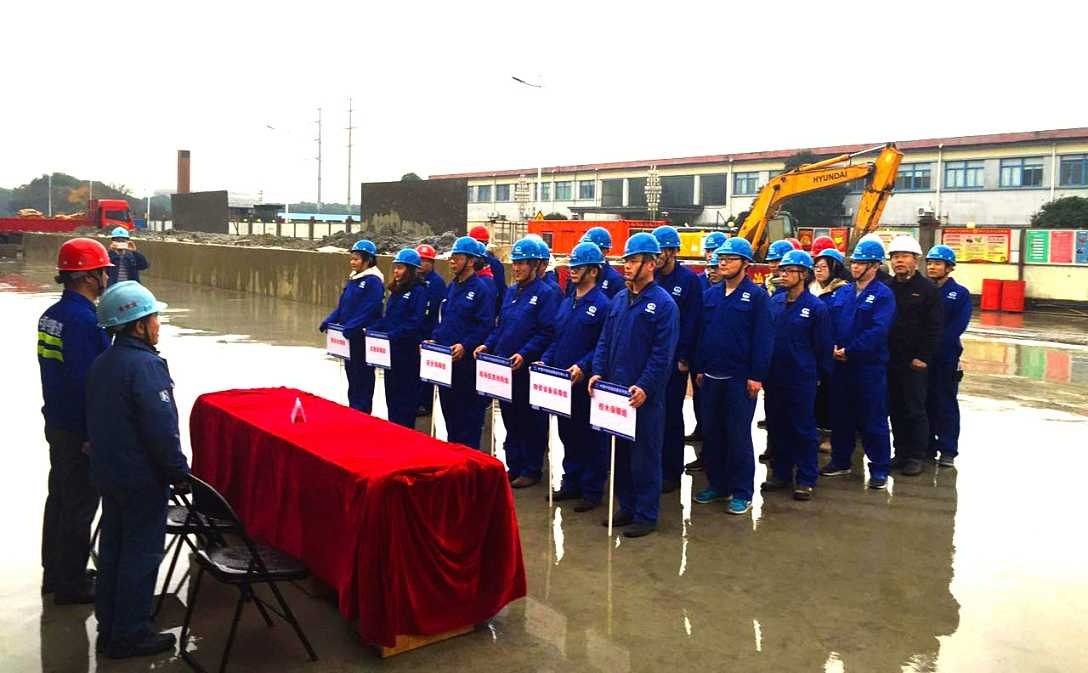blue: (94, 280, 164, 349), (622, 231, 659, 284), (508, 239, 542, 285), (565, 243, 602, 285), (718, 236, 753, 279), (849, 241, 884, 283), (650, 225, 681, 271), (777, 250, 812, 290), (923, 244, 957, 281), (811, 247, 842, 284), (448, 237, 478, 274), (583, 223, 613, 258), (765, 237, 791, 273), (391, 250, 420, 282), (350, 240, 376, 270), (108, 224, 132, 252), (704, 249, 723, 283), (703, 231, 725, 260)
red: (58, 234, 112, 295), (412, 242, 435, 274)
white: (883, 235, 922, 279)
